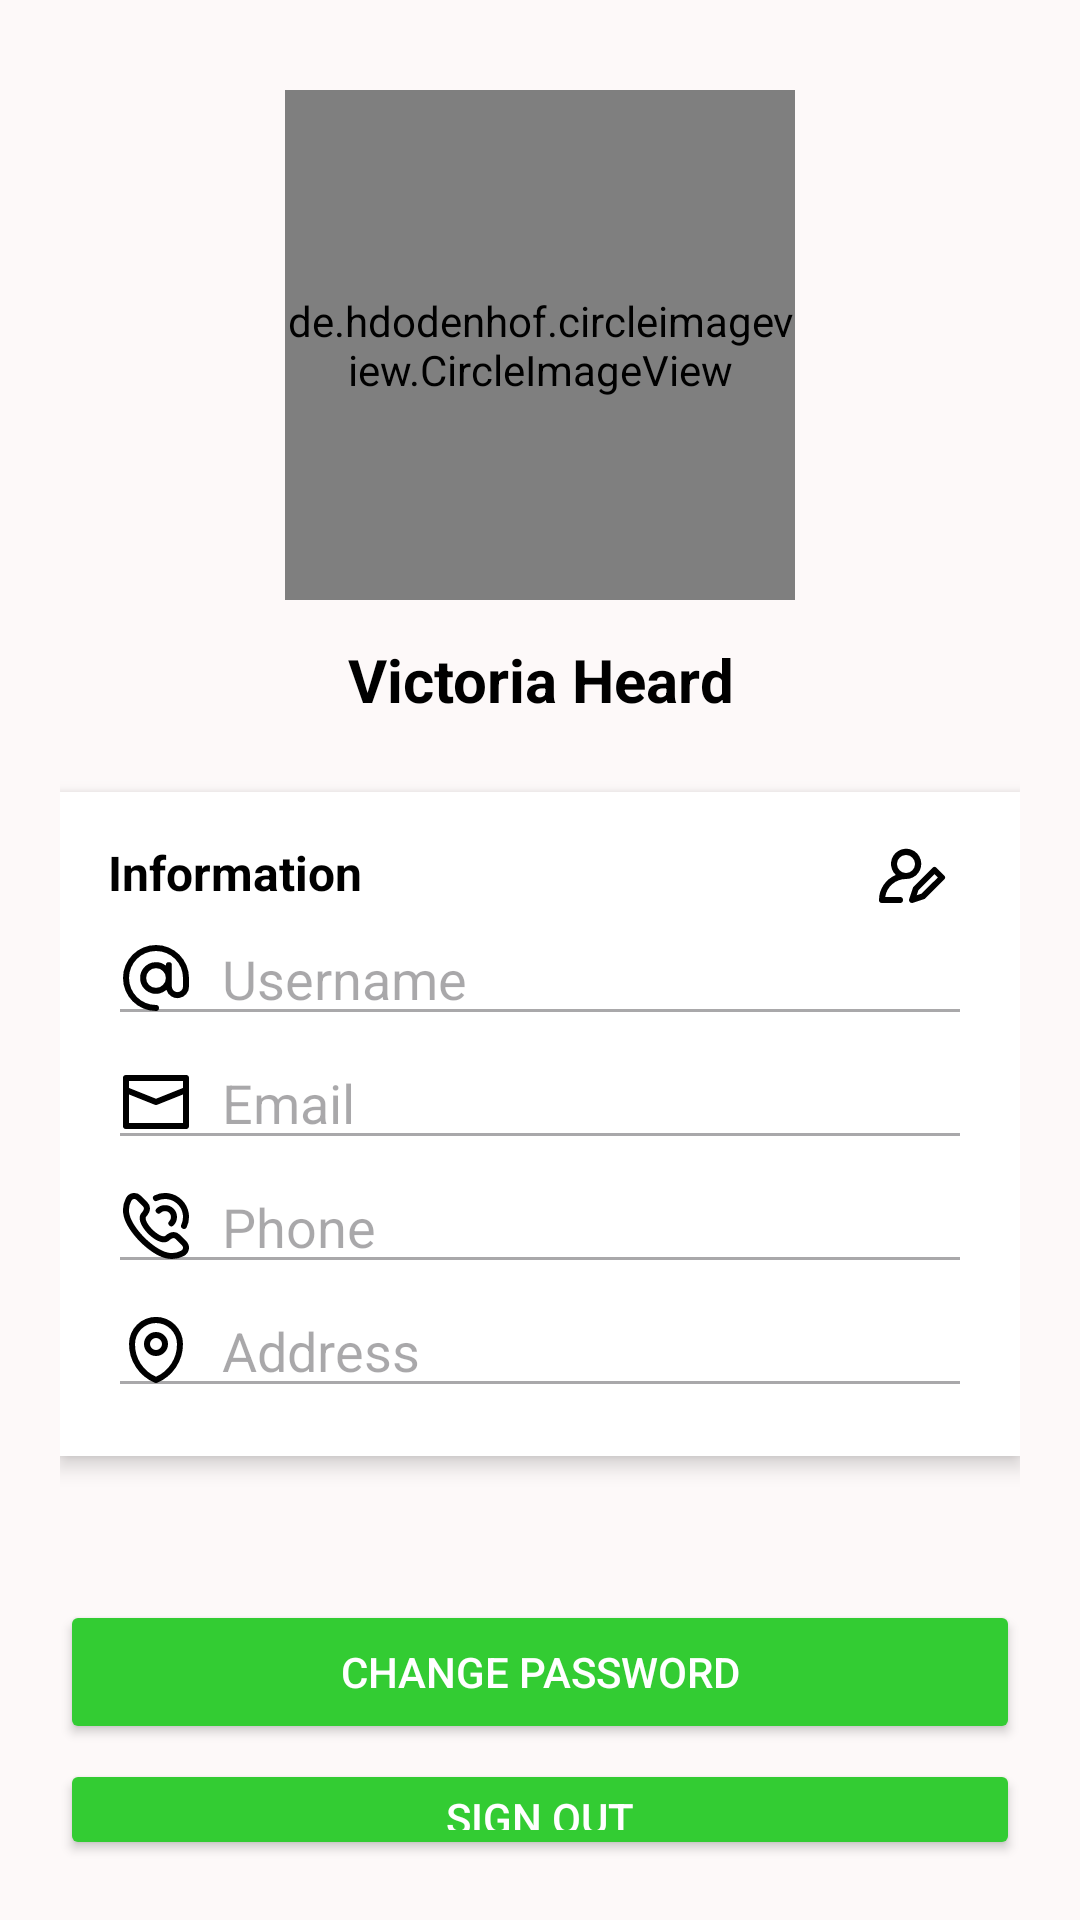

Icon bounding boxes for this 1080px×1920px phone screenshot, format (x1, y1, x2, y2):
edit profile: (879, 848, 946, 903)
